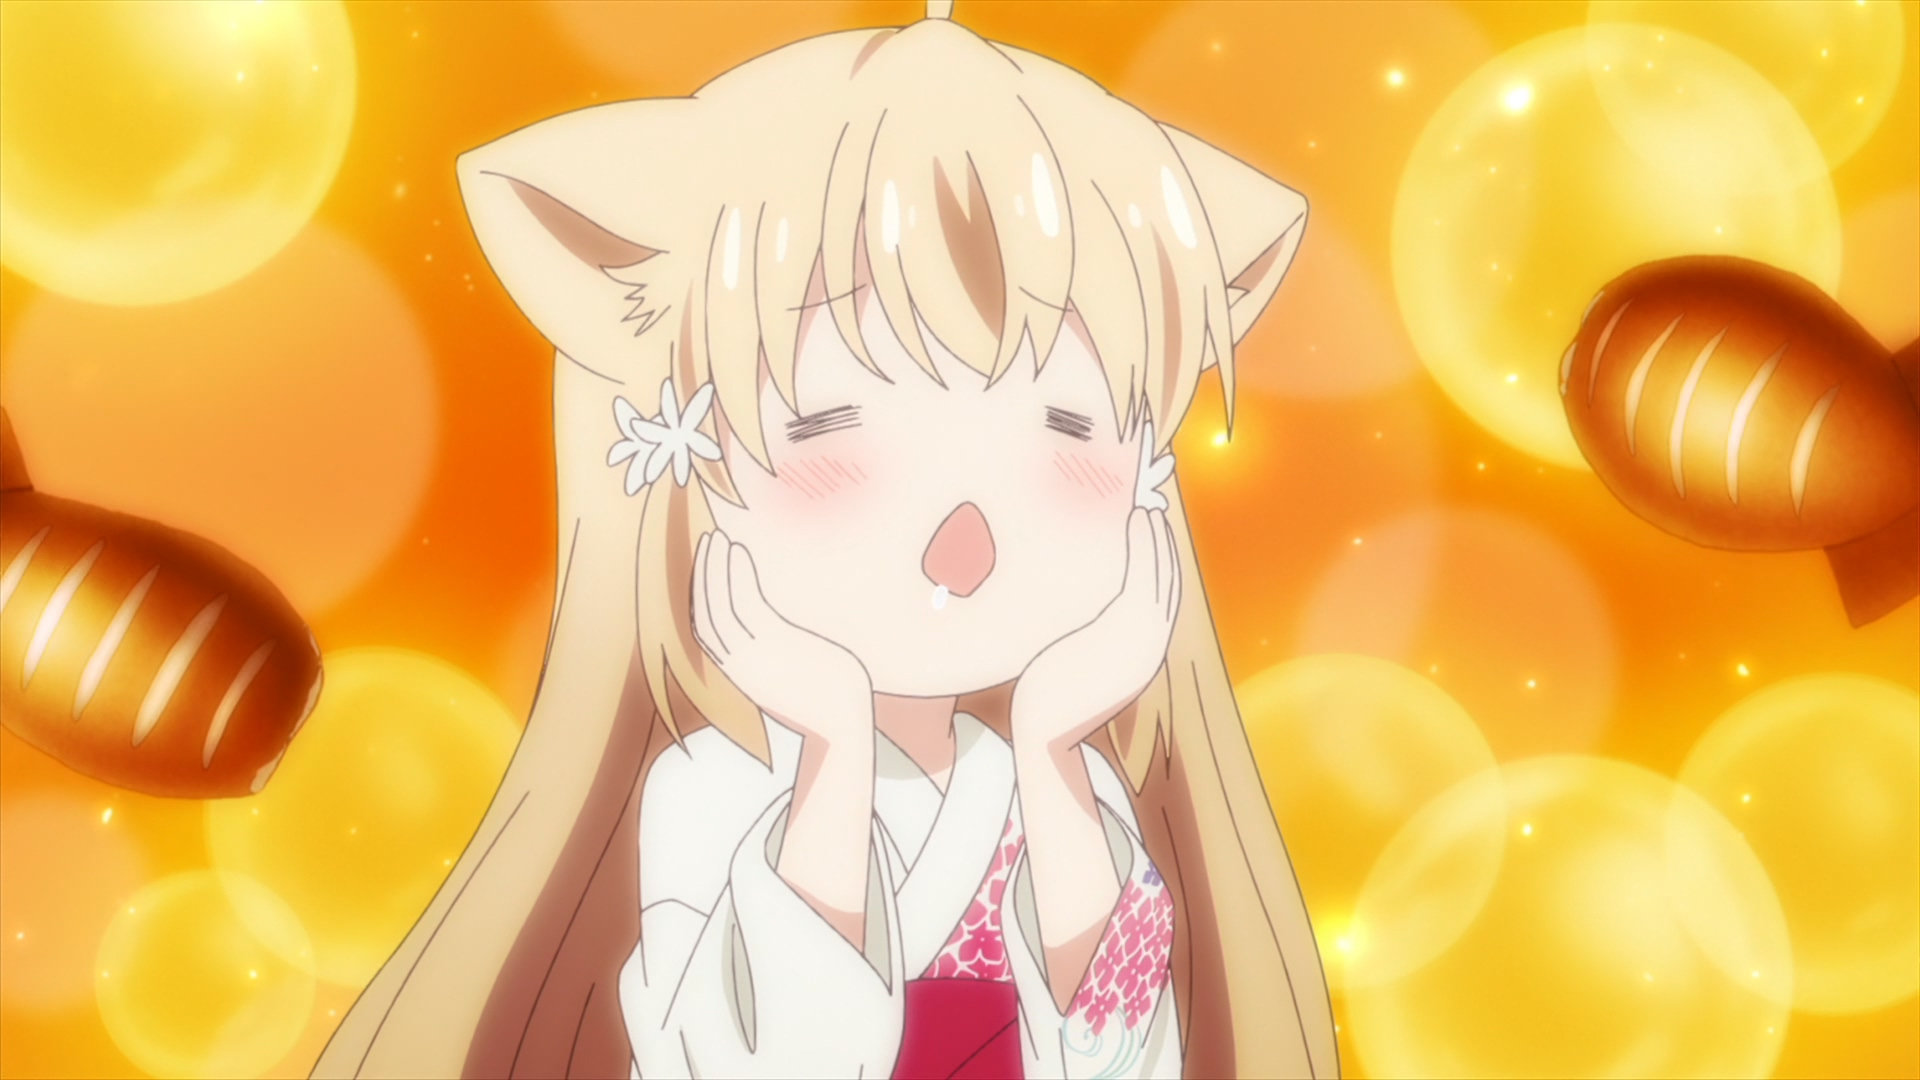柚: (310, 1, 1342, 1080)
